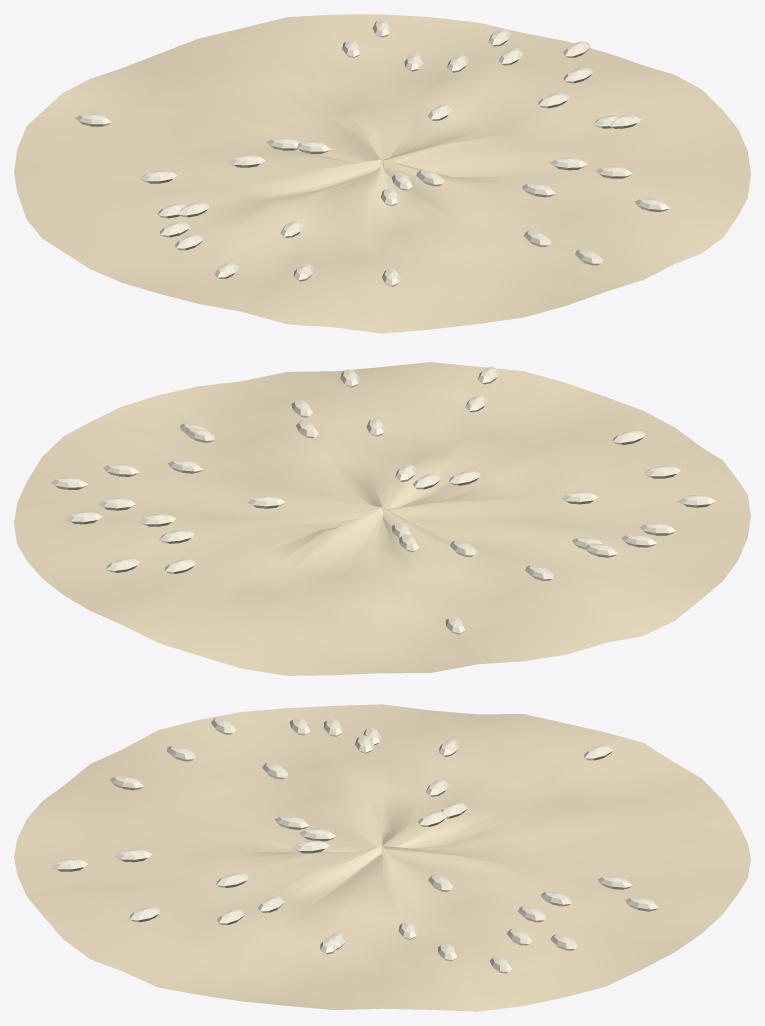
The model's file is FOOD_Congee_R01.glb.
The picture shows the model from 3 angles, top to bottom: view 1: azimuth 30°, elevation 25°; view 2: azimuth 150°, elevation 25°; view 3: azimuth 270°, elevation 25°; orthographic projection.
Visible parts, largest first — view 1: Thick_Porridge_Surface; view 2: Thick_Porridge_Surface; view 3: Thick_Porridge_Surface.
Boxes of the visible parts, x1,y1,x2,y2 form: Thick_Porridge_Surface: [14, 14, 750, 333]; Thick_Porridge_Surface: [14, 362, 750, 675]; Thick_Porridge_Surface: [14, 704, 750, 1011].
Bounding box in the file's own units: 0.532 × 0.023 × 0.532.
